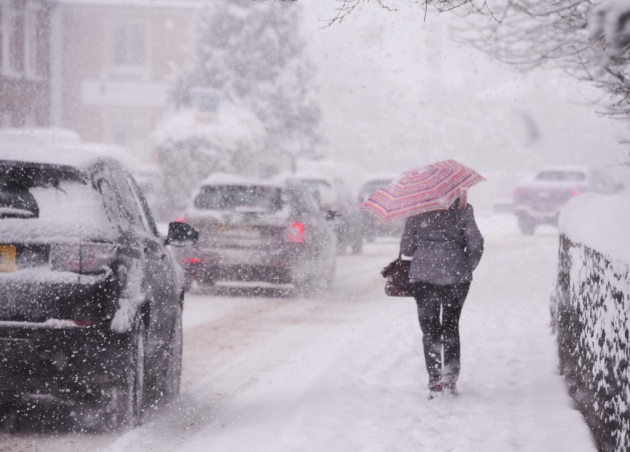car: (1, 144, 198, 428), (178, 170, 339, 301)
person: (394, 179, 484, 398)
